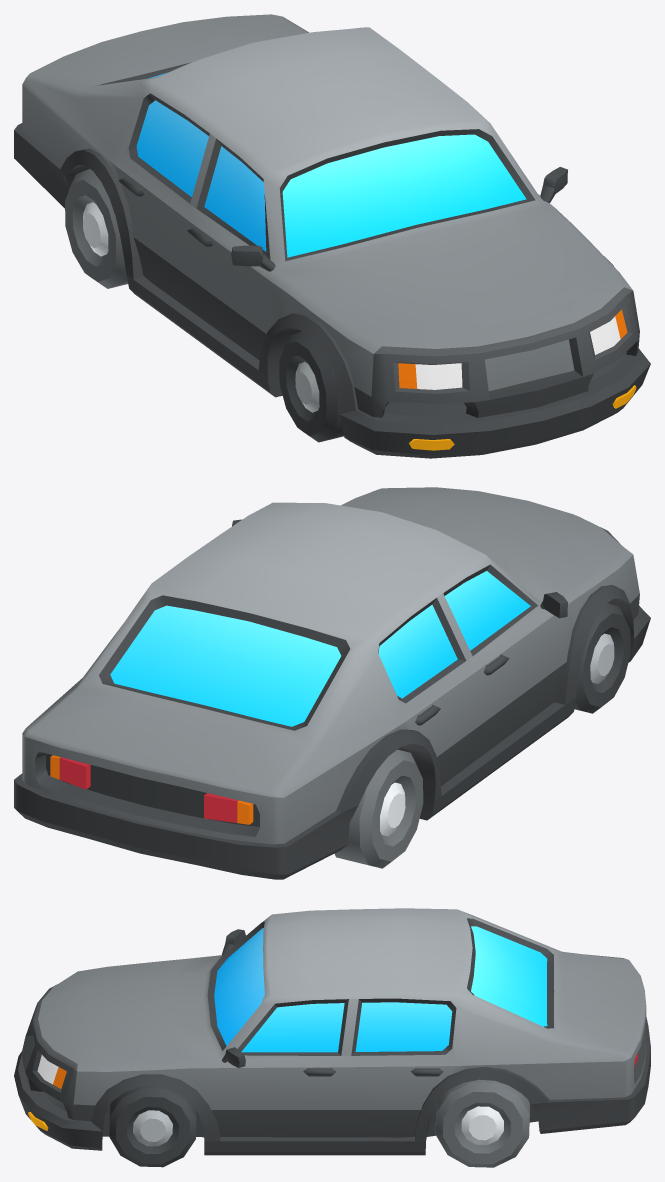
The model's file is Car_38.glb.
The picture shows the model from 3 angles, top to bottom: view 1: azimuth 30°, elevation 25°; view 2: azimuth 150°, elevation 25°; view 3: azimuth 270°, elevation 25°; orthographic projection. The views are drawn at different scales.
Parts seen in each view (by area): view 1: Car_38, Wheel_074, Wheel_073; view 2: Car_38, Wheel_074, Wheel_073; view 3: Car_38, Wheel_076, Wheel_075.
Part boxes in pixels (left/top/right/bottom): Car_38: left=14, top=14, right=650, bottom=458; Wheel_074: left=65, top=169, right=127, bottom=288; Wheel_073: left=279, top=331, right=343, bottom=442; Car_38: left=14, top=487, right=650, bottom=879; Wheel_074: left=334, top=749, right=423, bottom=868; Wheel_073: left=574, top=603, right=630, bottom=713; Car_38: left=14, top=908, right=650, bottom=1155; Wheel_076: left=435, top=1079, right=529, bottom=1167; Wheel_075: left=109, top=1086, right=196, bottom=1167.
Bounding box in the file's own units: 2.41 × 1.51 × 5.06.
Materials: 2 (2 with a texture image).
